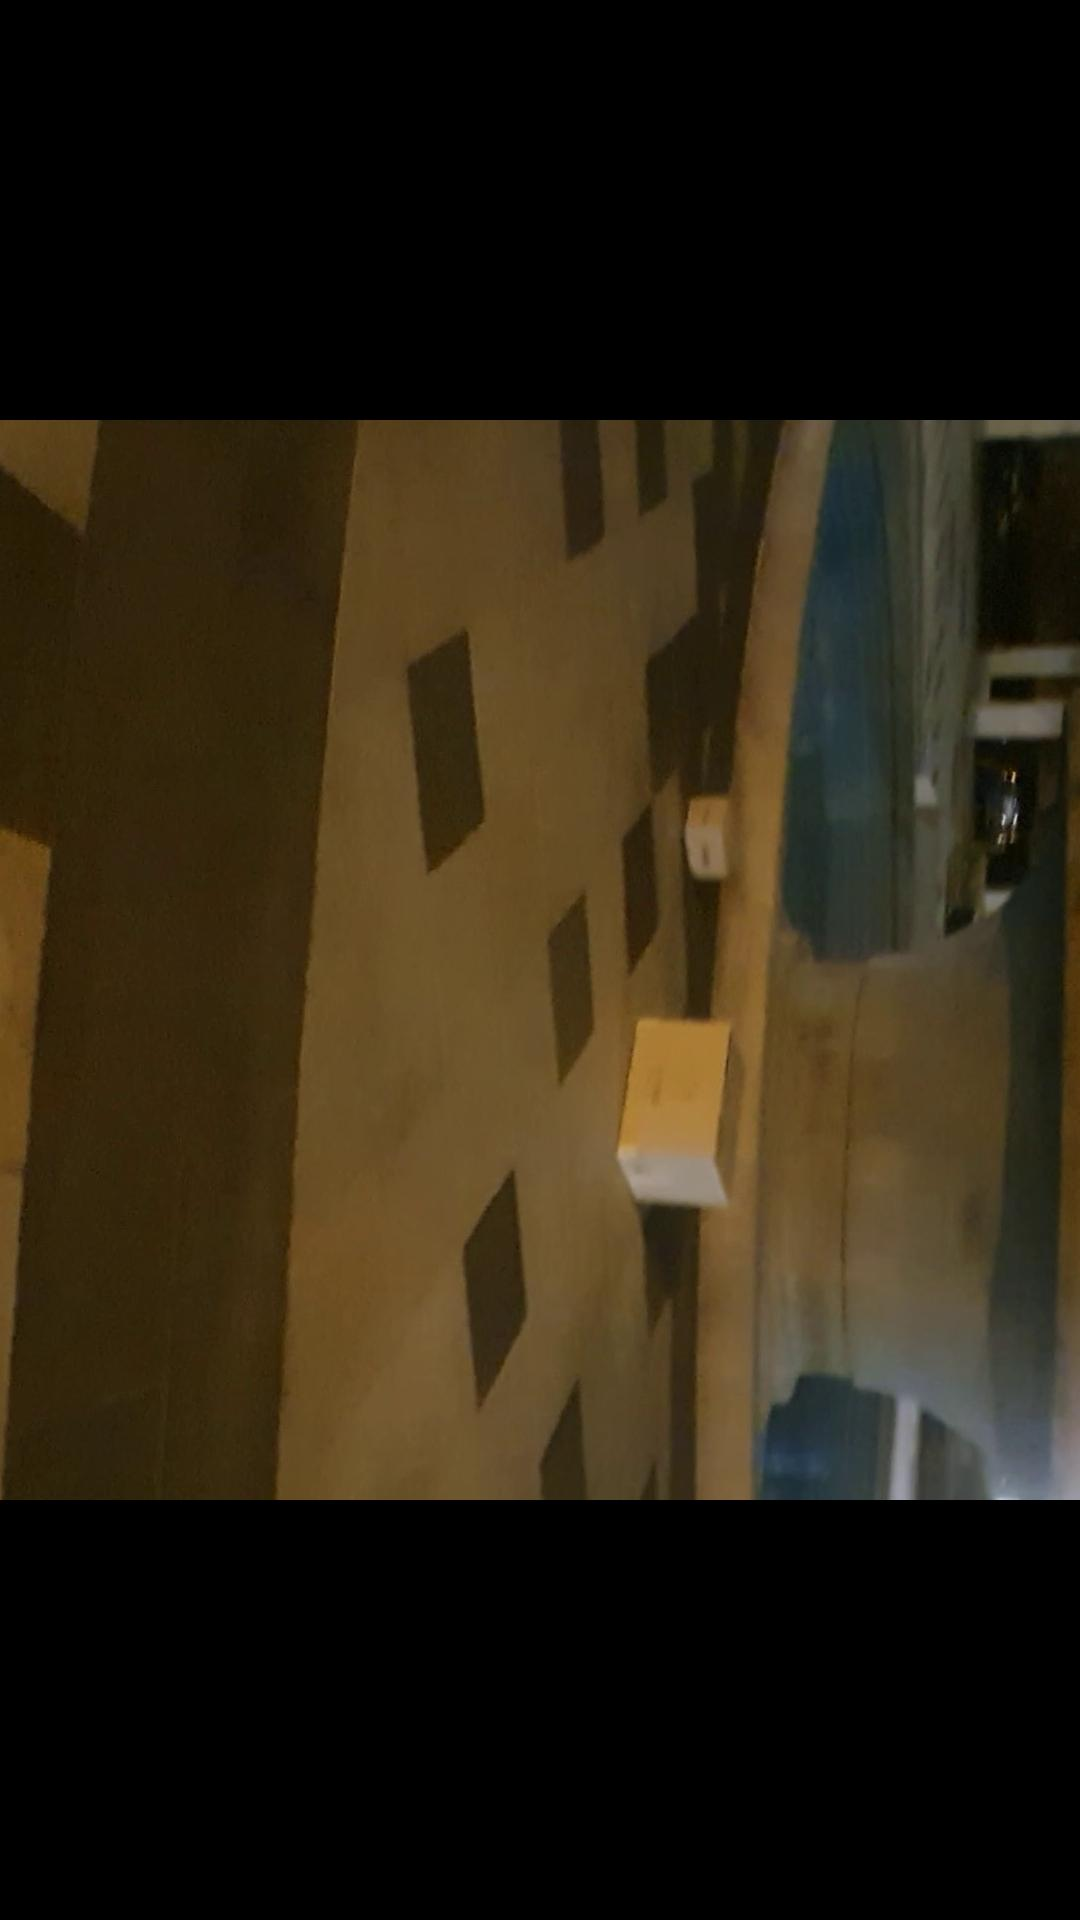Box: (595, 996, 756, 1242), (675, 781, 752, 885)
